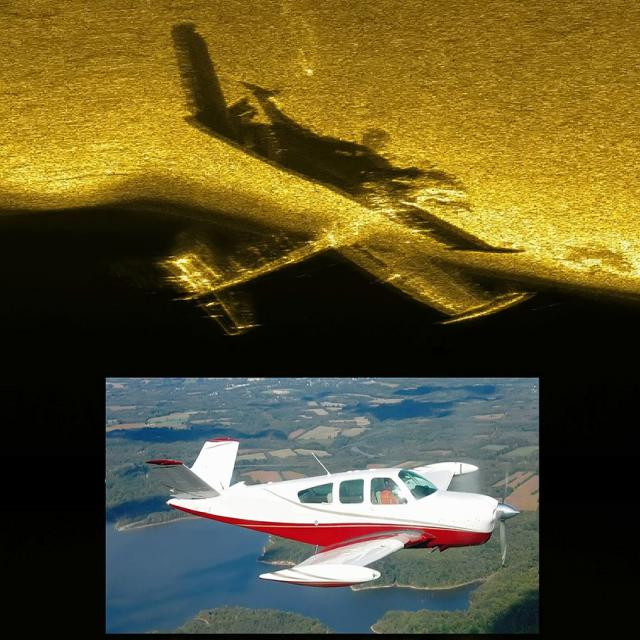plane: (137, 14, 543, 348), (145, 436, 521, 590)
